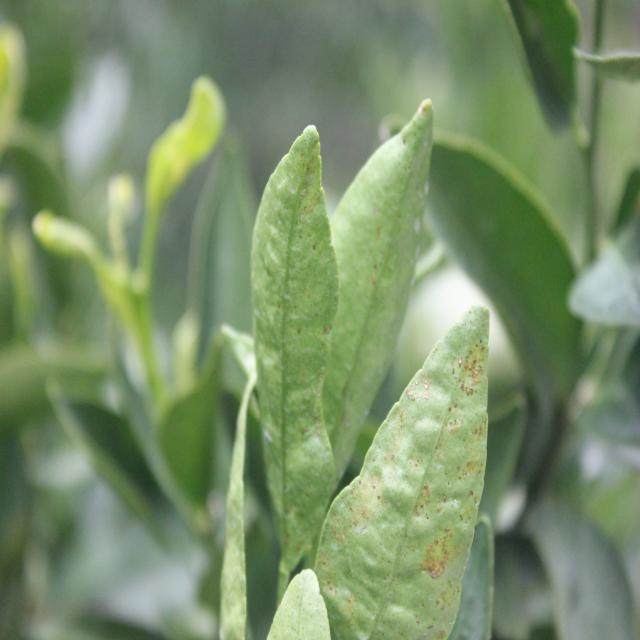canker: (315, 326, 493, 640), (255, 130, 328, 546), (335, 106, 436, 325)
